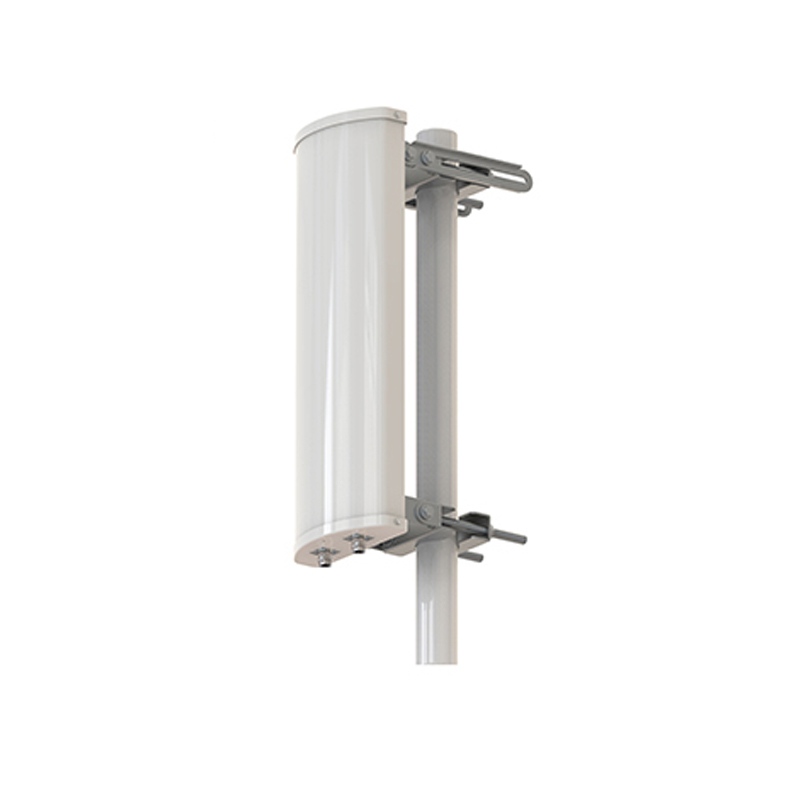sa: (263, 89, 510, 674)
